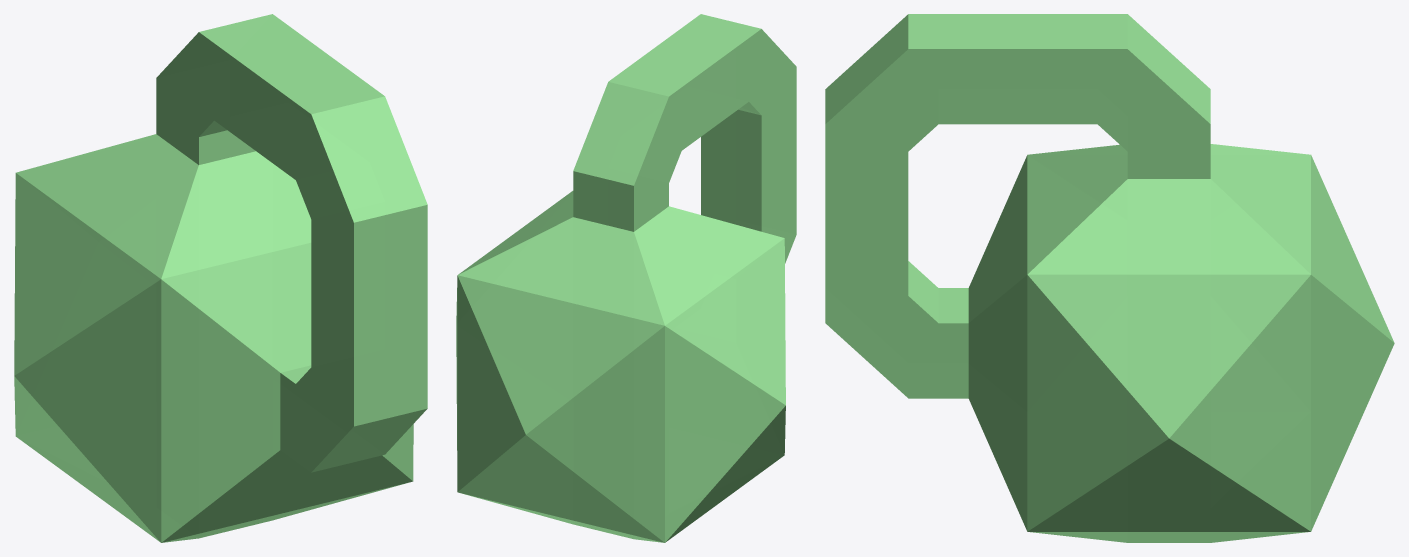
Rendered from TetrakisHexahedron.obj.
3 views of the same model, side by side, from view 1: azimuth 30°, elevation 25°; view 2: azimuth 150°, elevation 25°; view 3: azimuth 270°, elevation 25° (orthographic). The views are drawn at different scales.
Size of the model in its own units: 2.25 by 2.72 by 2.84.
